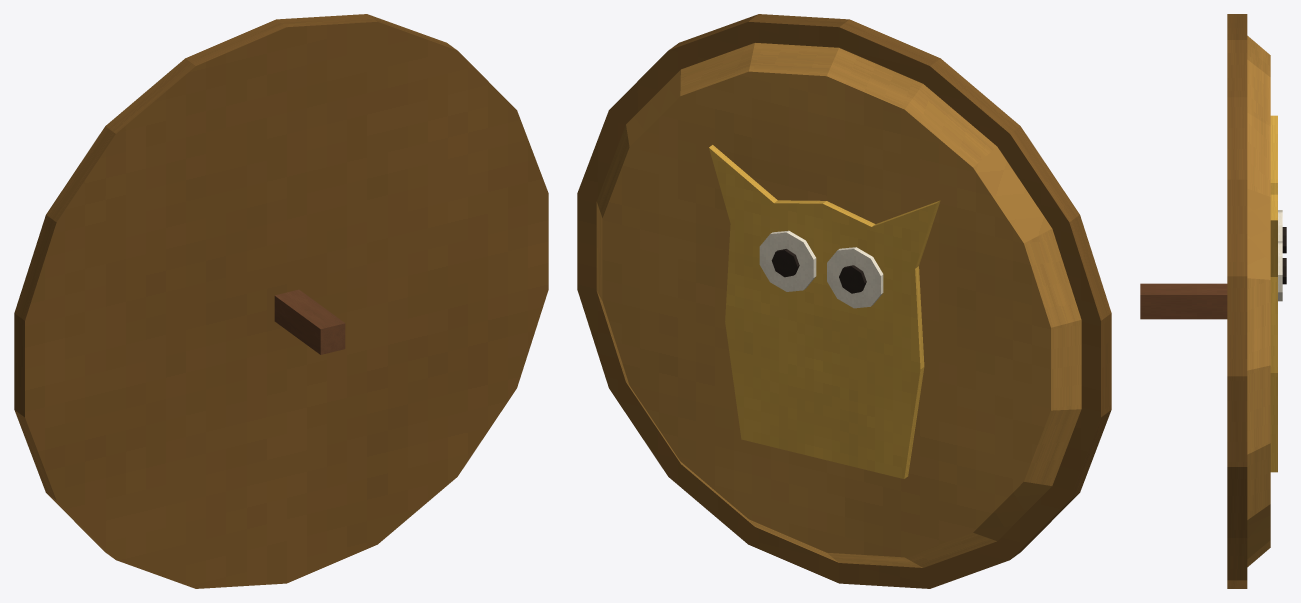
File: scudo_ulisse.glb
3 renders of one model, left to right at view 1: azimuth 30°, elevation 25°; view 2: azimuth 150°, elevation 25°; view 3: azimuth 270°, elevation 25°, orthographic. The views are drawn at different scales.
Parts seen in each view (by area): view 1: SM_scudo_ulisse; view 2: SM_scudo_ulisse; view 3: SM_scudo_ulisse.
Part boxes in pixels (x1=…): SM_scudo_ulisse: x1=14, y1=14, x2=548, y2=588; SM_scudo_ulisse: x1=577, y1=14, x2=1111, y2=588; SM_scudo_ulisse: x1=1140, y1=14, x2=1286, y2=588.
Bounding box in the file's own units: 0.8509 × 0.864 × 0.219.
1 material, 1 textured.
